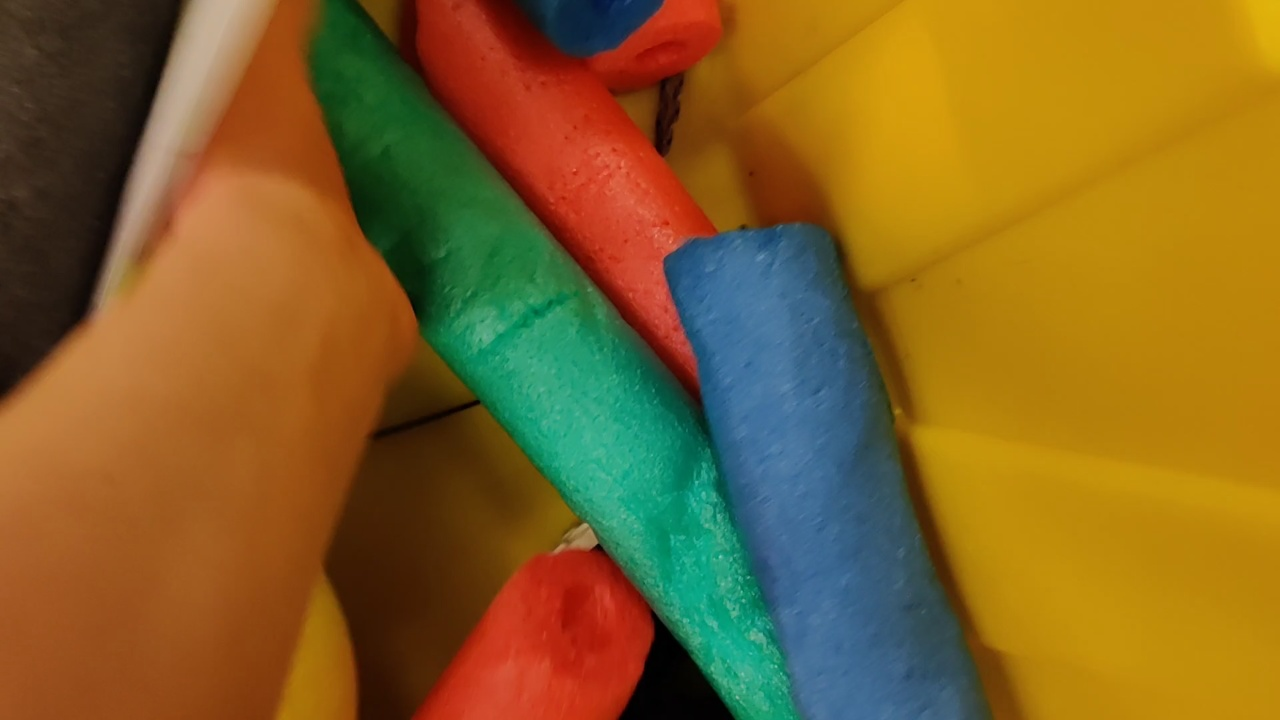Ball: (270, 560, 358, 719)
